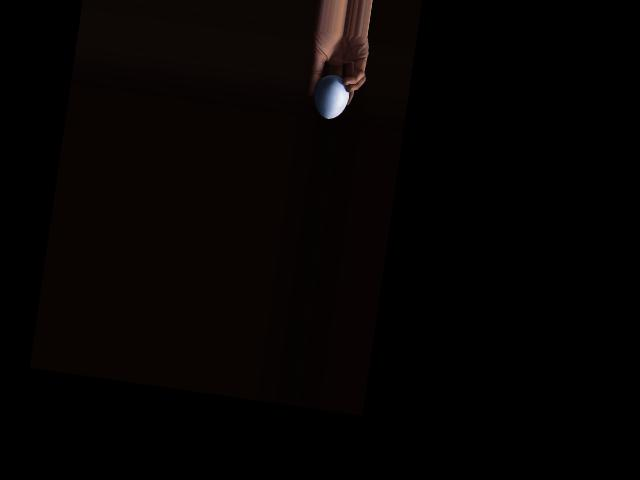egg: (311, 73, 352, 121)
